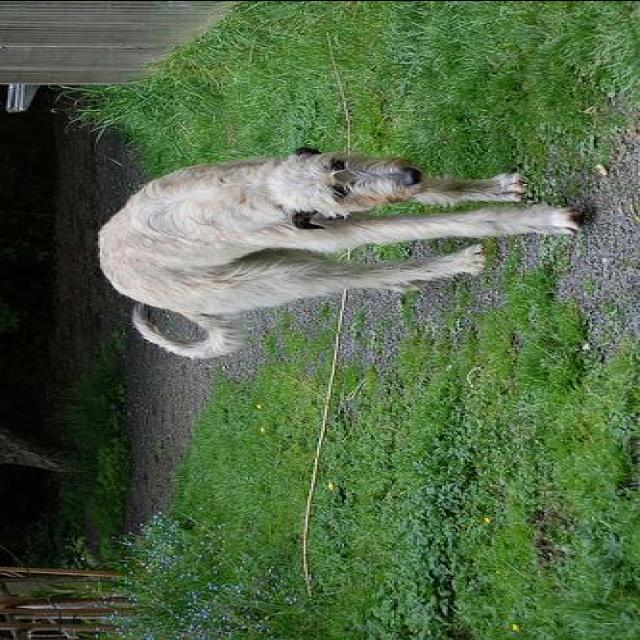irish_wolfhound: (94, 144, 584, 358)
